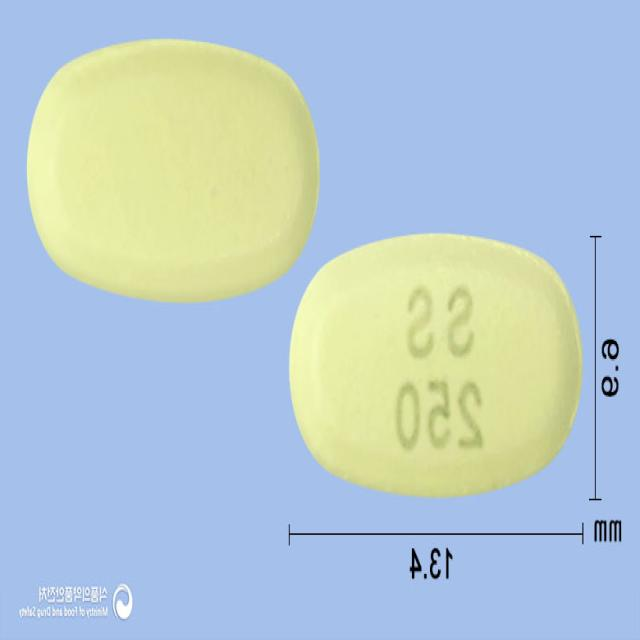Clarid: (287, 232, 582, 499), (24, 38, 320, 302)
